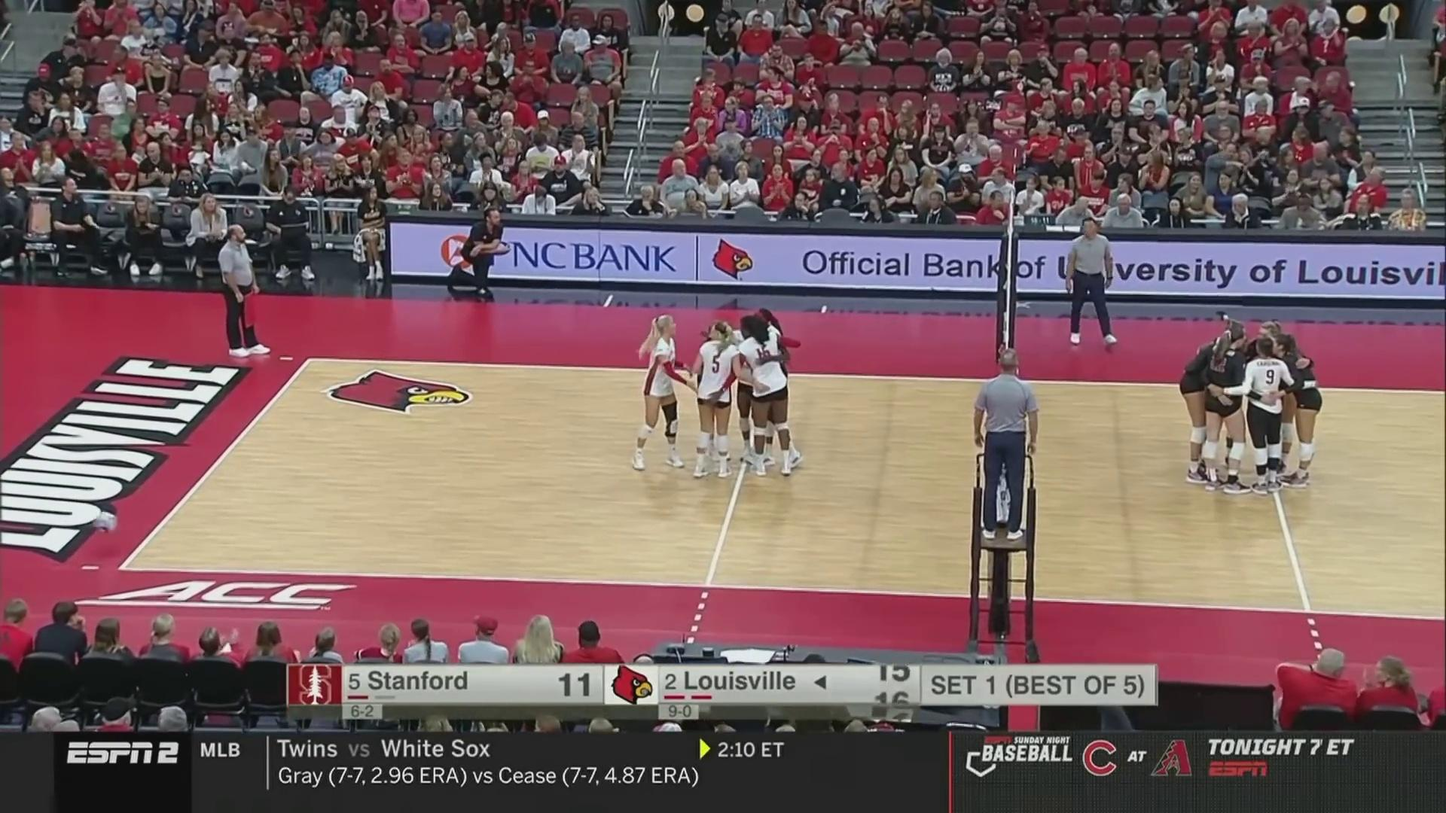player: (728, 318, 799, 476), (1177, 318, 1244, 484), (1228, 340, 1296, 495), (693, 324, 756, 474), (1200, 324, 1251, 497), (749, 310, 804, 469), (1263, 336, 1319, 489), (1253, 319, 1305, 476), (634, 313, 685, 471)
refree: (977, 348, 1036, 534), (1063, 218, 1117, 344), (220, 225, 270, 358)
